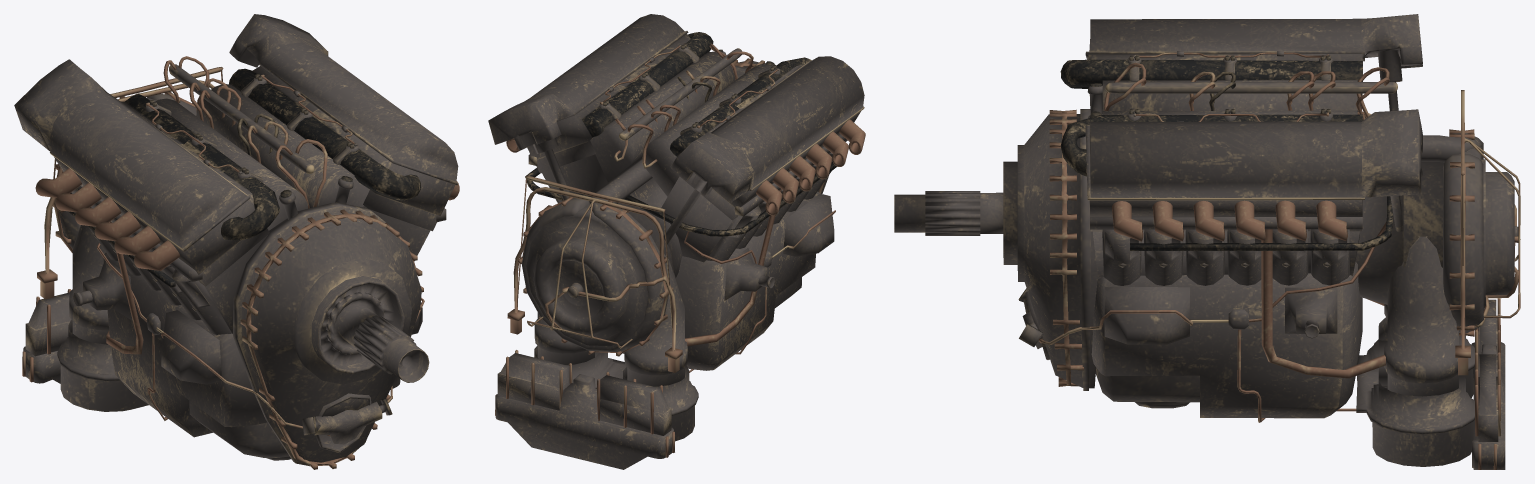
File: Engine.fbx
3 renders of one model, left to right at view 1: azimuth 30°, elevation 25°; view 2: azimuth 150°, elevation 25°; view 3: azimuth 270°, elevation 25°, orthographic. The views are drawn at different scales.
Parts seen in each view (by area): view 1: Engine; view 2: Engine; view 3: Engine.
Part boxes in pixels (left/top/right/bottom): Engine: left=14, top=14, right=459, bottom=469; Engine: left=488, top=14, right=865, bottom=469; Engine: left=894, top=14, right=1520, bottom=469.
Size of the model in its own units: 179 by 195 by 291.
1 material, 1 textured.
